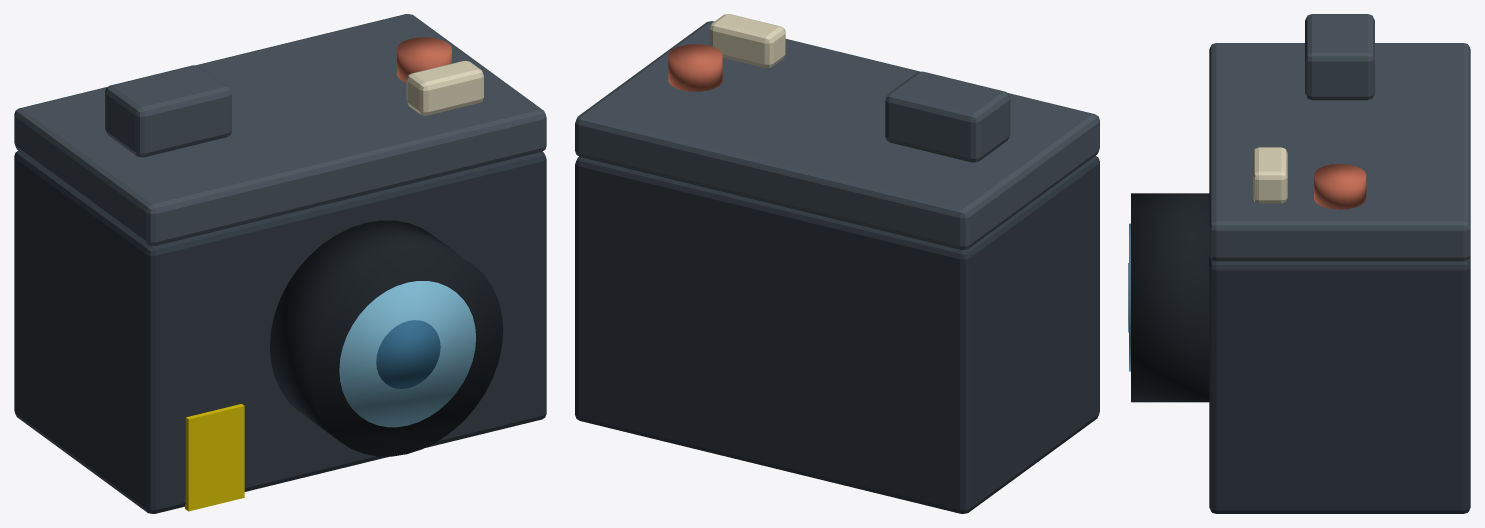
3 renders of one model, left to right at view 1: azimuth 30°, elevation 25°; view 2: azimuth 150°, elevation 25°; view 3: azimuth 270°, elevation 25°, orthographic. The views are drawn at different scales.
Parts seen in each view (by area): view 1: lm_03; view 2: lm_03; view 3: lm_03.
Boxes of the visible parts, bbox=[...] form: lm_03: bbox=[14, 14, 546, 513]; lm_03: bbox=[575, 14, 1099, 513]; lm_03: bbox=[1128, 14, 1470, 513].
Size of the model in its own units: 0.5 by 0.43 by 0.393.
